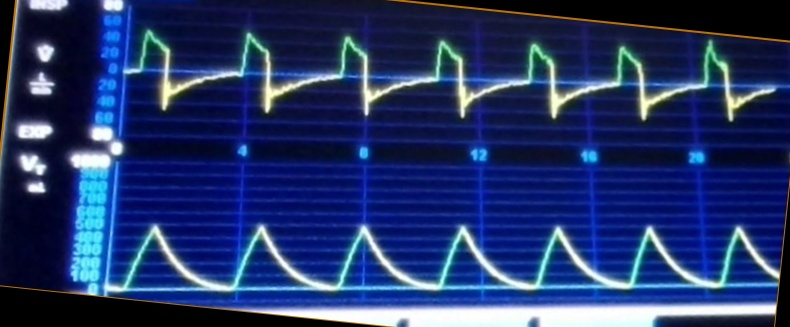Accumulation Flow: (131, 29, 766, 139)
Volume: (113, 208, 776, 295)
